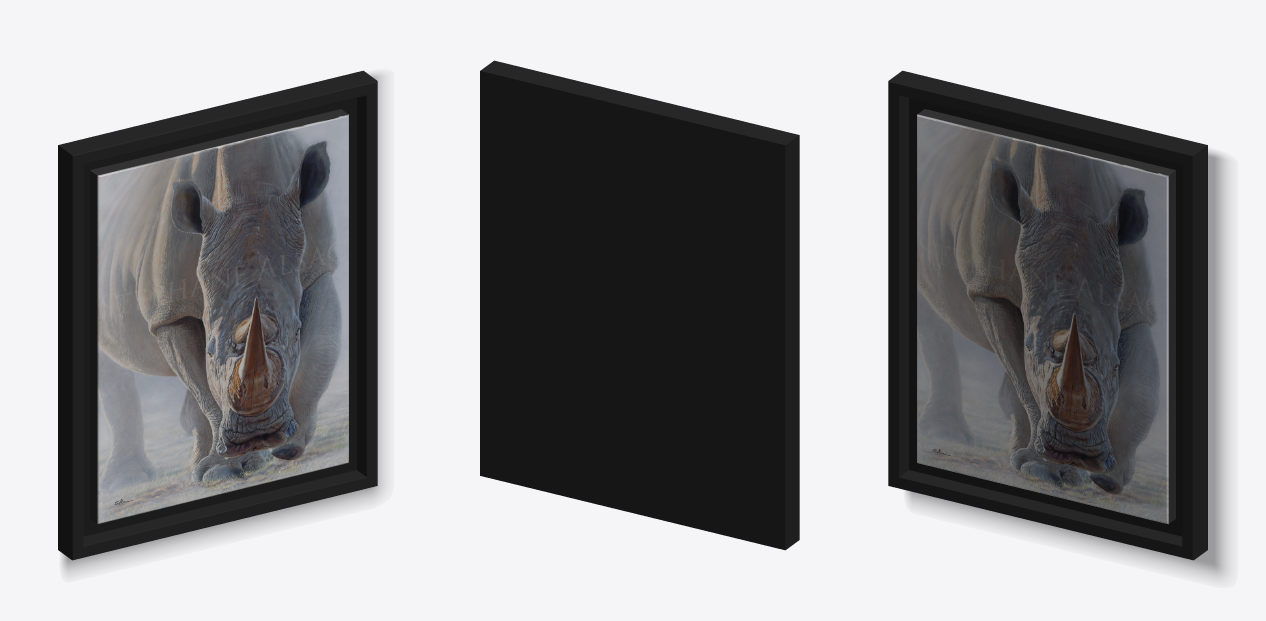
The model's file is dust-rage-peinture-rhino-classique-d2957f76.glb.
The picture shows the model from 3 angles, left to right: view 1: azimuth 30°, elevation 25°; view 2: azimuth 150°, elevation 25°; view 3: azimuth 330°, elevation 25°; orthographic projection.
Parts seen in each view (by area): view 1: Painting; view 2: Painting; view 3: Painting.
Boxes of the visible parts, x1=… form: Painting: x1=58, y1=70, x2=381, y2=571; Painting: x1=480, y1=60, x2=799, y2=550; Painting: x1=888, y1=70, x2=1225, y2=575.
Size of the model in its own units: 0.626 by 0.756 by 0.04.
5 materials, 3 textured.
